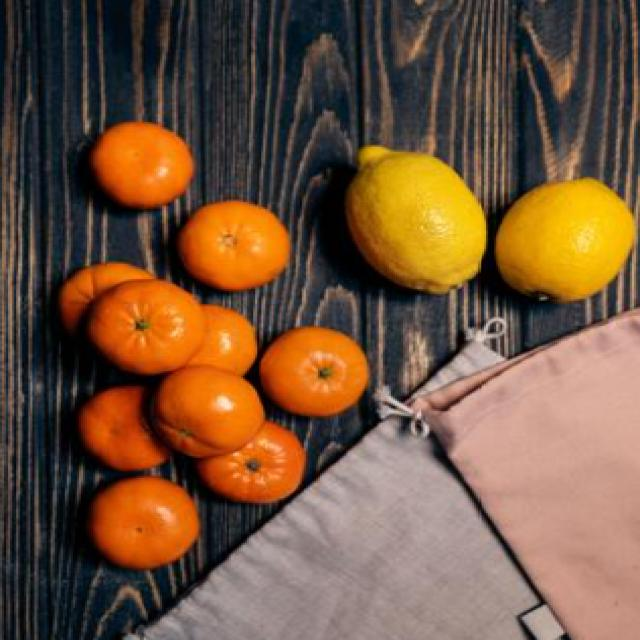paper: (325, 123, 480, 290), (498, 154, 622, 317), (85, 470, 222, 579), (272, 319, 380, 428), (186, 186, 295, 286), (69, 110, 186, 202), (160, 370, 280, 452), (96, 275, 207, 357), (73, 387, 169, 474)
